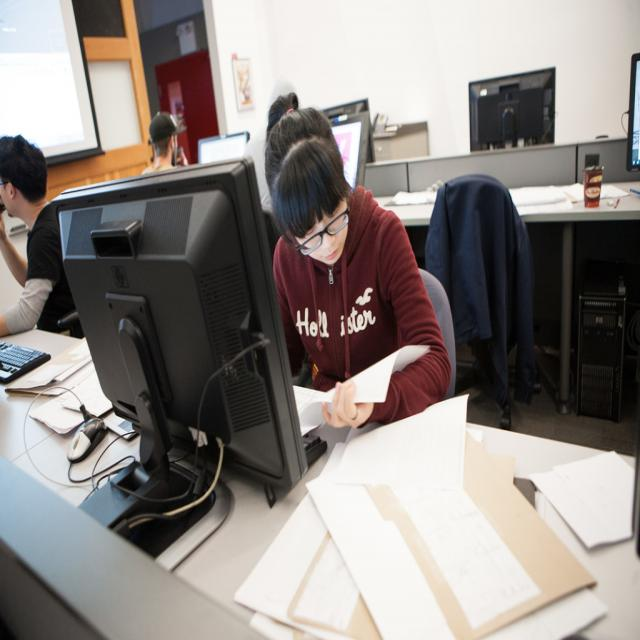chair: (425, 174, 539, 429), (419, 268, 456, 397)
desk: (0, 326, 638, 639)
keyboard: (0, 338, 51, 382)
laptop: (60, 156, 324, 502), (1, 336, 50, 384)
mouse: (67, 417, 108, 461)
person: (266, 107, 452, 428), (0, 134, 78, 335), (264, 80, 300, 202), (140, 112, 190, 175)
tv: (61, 156, 320, 498), (626, 52, 640, 175)
